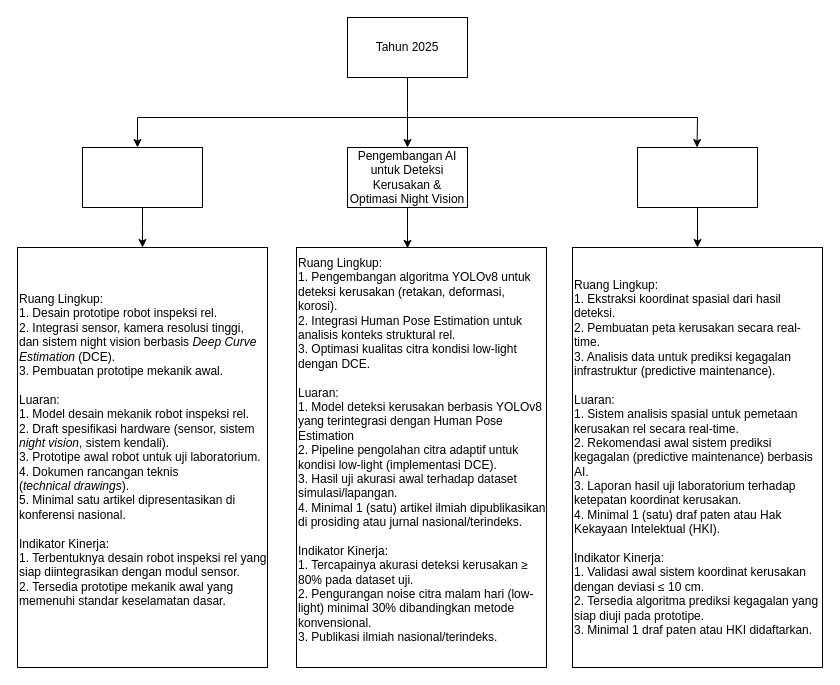
This 840x685 diagram has some shape labels left out. The centre of each missing label's shape, as x and y in pixels:
"Analisis Koordinat & Prediksi Kerusakan Real-Time" goes at [697,177].
"Pengembangan Desain Robot Inspeksi Rel" goes at [142,177].
